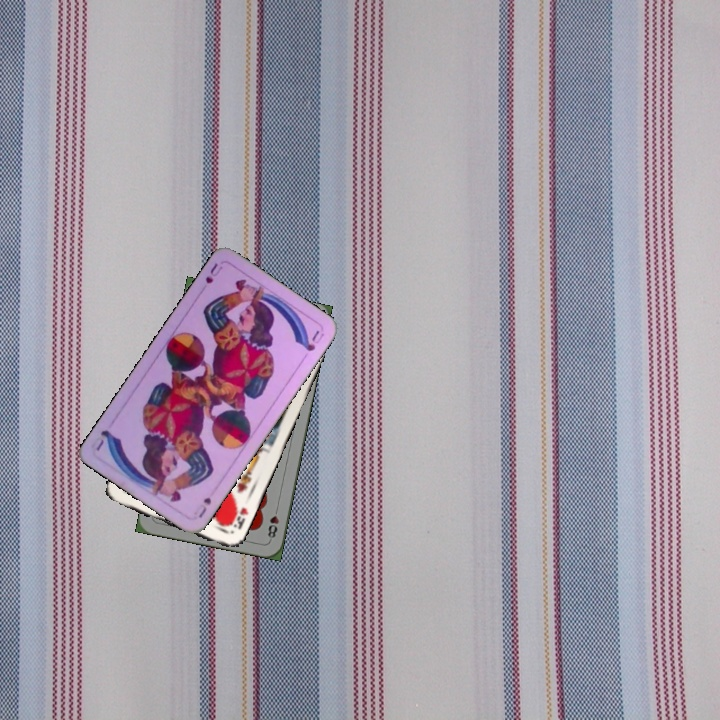H8: (264, 502, 281, 543)
HK: (224, 498, 251, 532)
SU: (189, 493, 216, 521), (201, 259, 225, 286)
